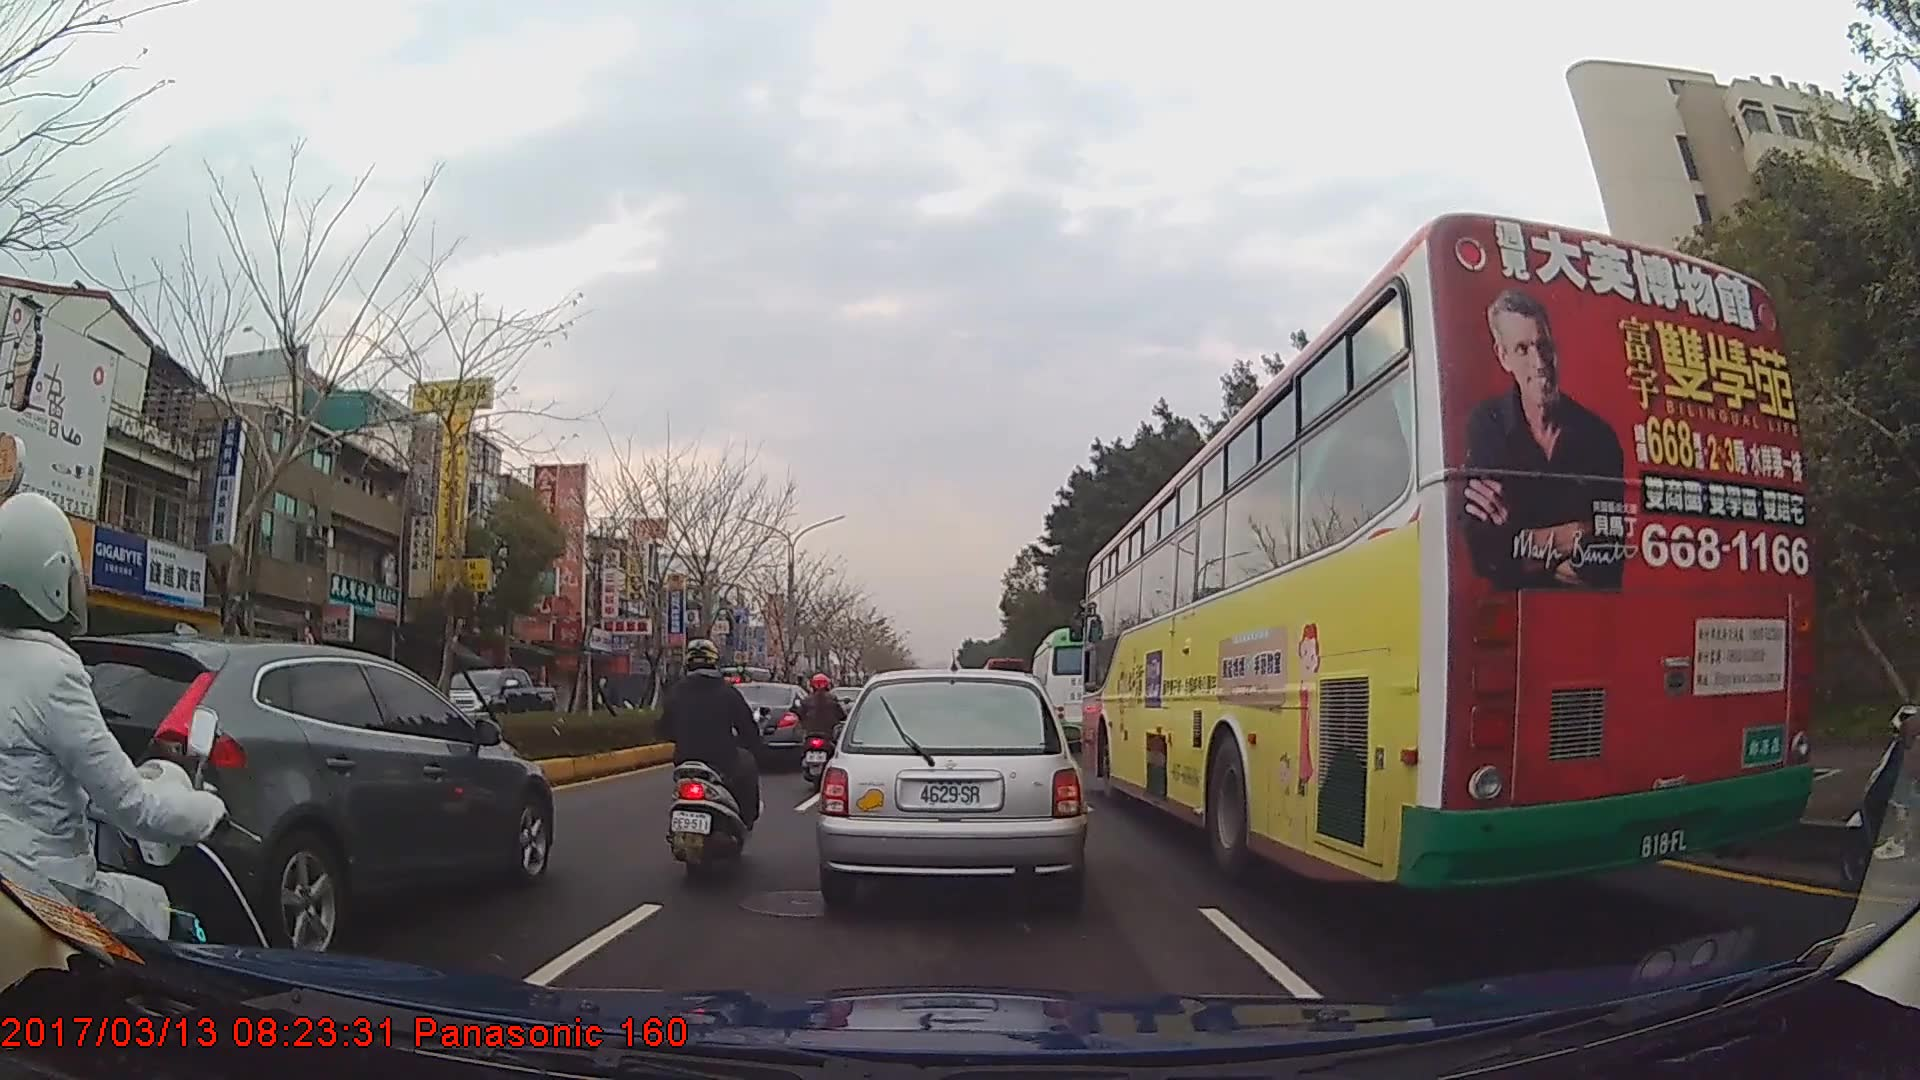rider: (1, 491, 286, 1074), (656, 638, 763, 881), (1839, 590, 1920, 889), (793, 674, 848, 791)
vehicle: (1081, 207, 1819, 894), (4, 626, 555, 929), (817, 669, 1084, 906), (1027, 627, 1115, 749), (712, 681, 818, 769), (434, 665, 555, 735)
